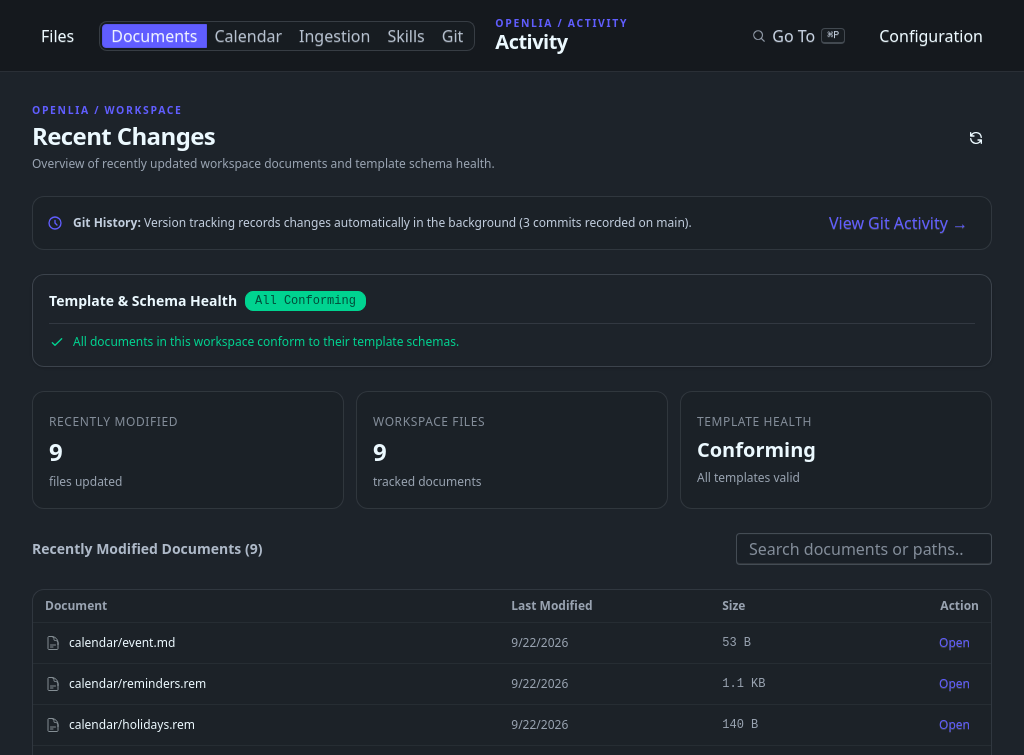
workspace application › opens Go To modal via header button and navigates to document
The width and height of the screenshot is (1024, 755).
Click the button with aria-label "Go to document or skill" at (799, 36), box [739,20,858,52]
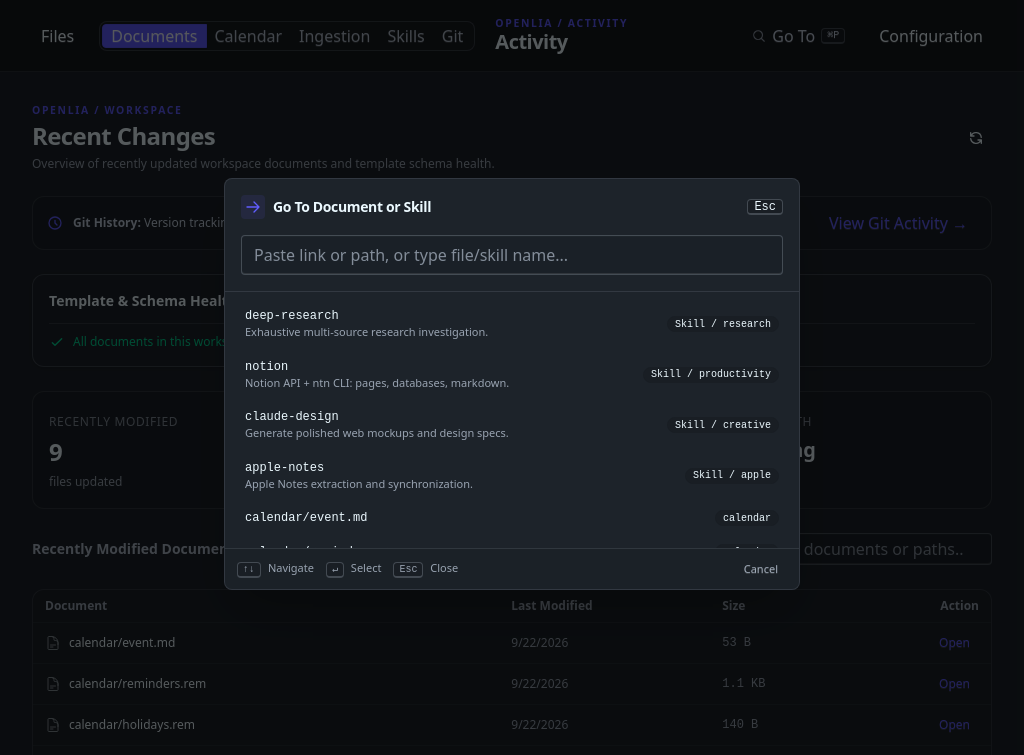
Now the field with placeholder "Paste link or path, or type file/skill name..." is shown
Note: Paste web link
Type "https://workspace.example.com/files/calendar/event.md" into the field with placeholder "Paste link or path, or type file/skill name..." at (512, 255), box [241,235,783,275]
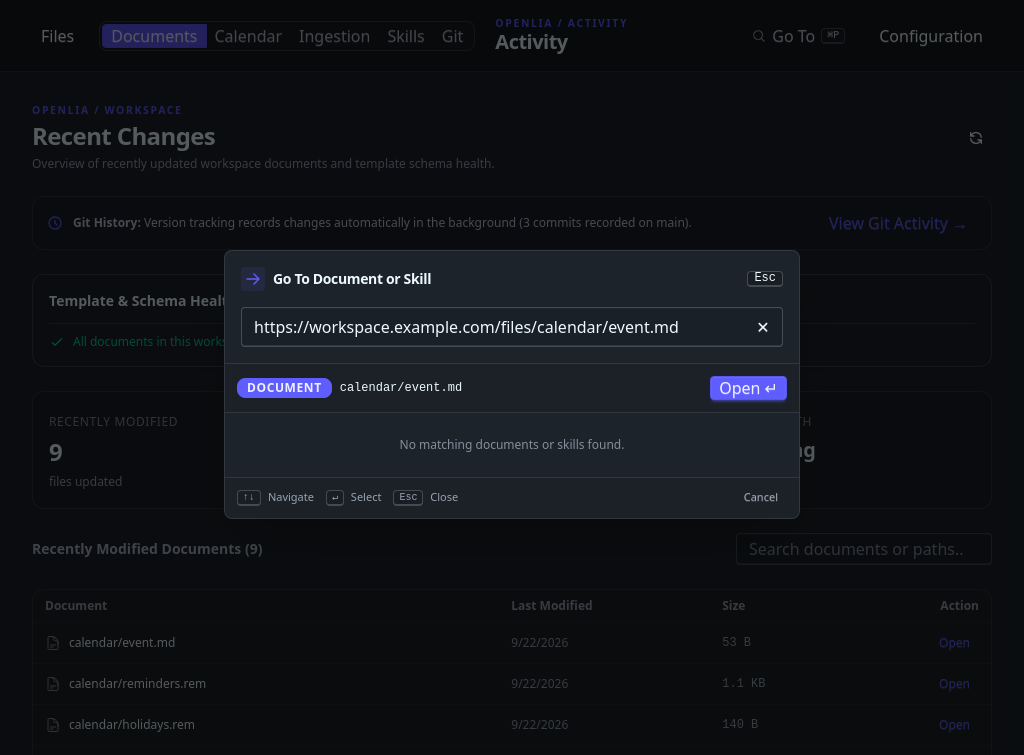
Now the text "calendar/event.md" is shown, box [340,380,462,396]
Press Enter in the field with placeholder "Paste link or path, or type file/skill name...", box [241,306,783,346]
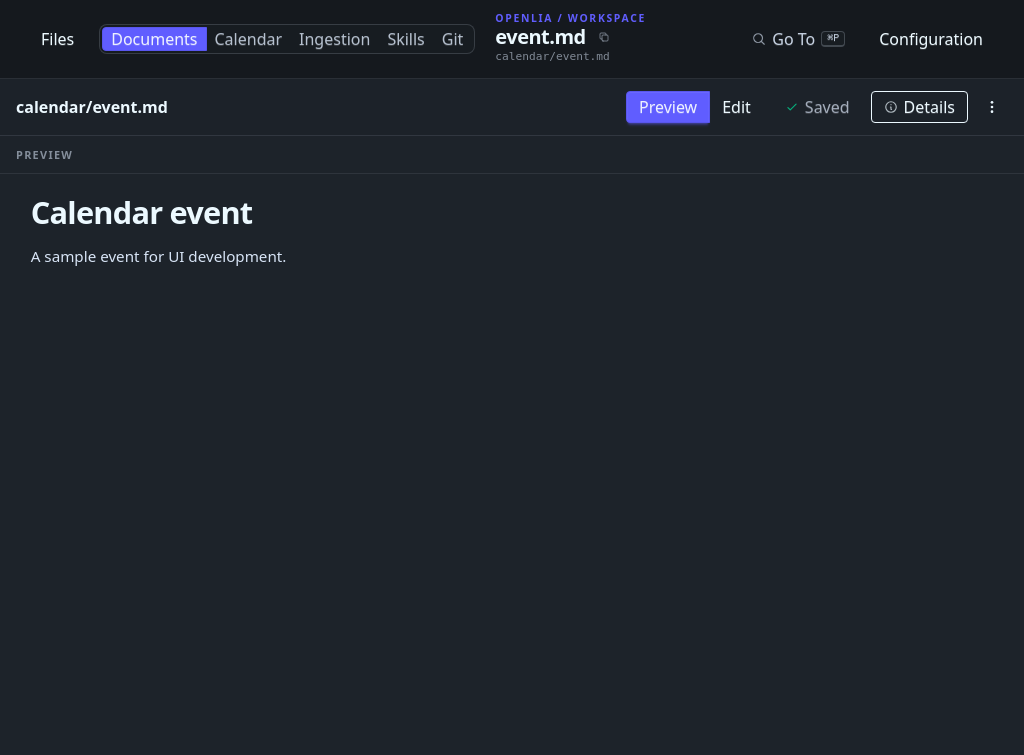
Now the heading "Calendar event" is shown, box [31,191,252,233]
